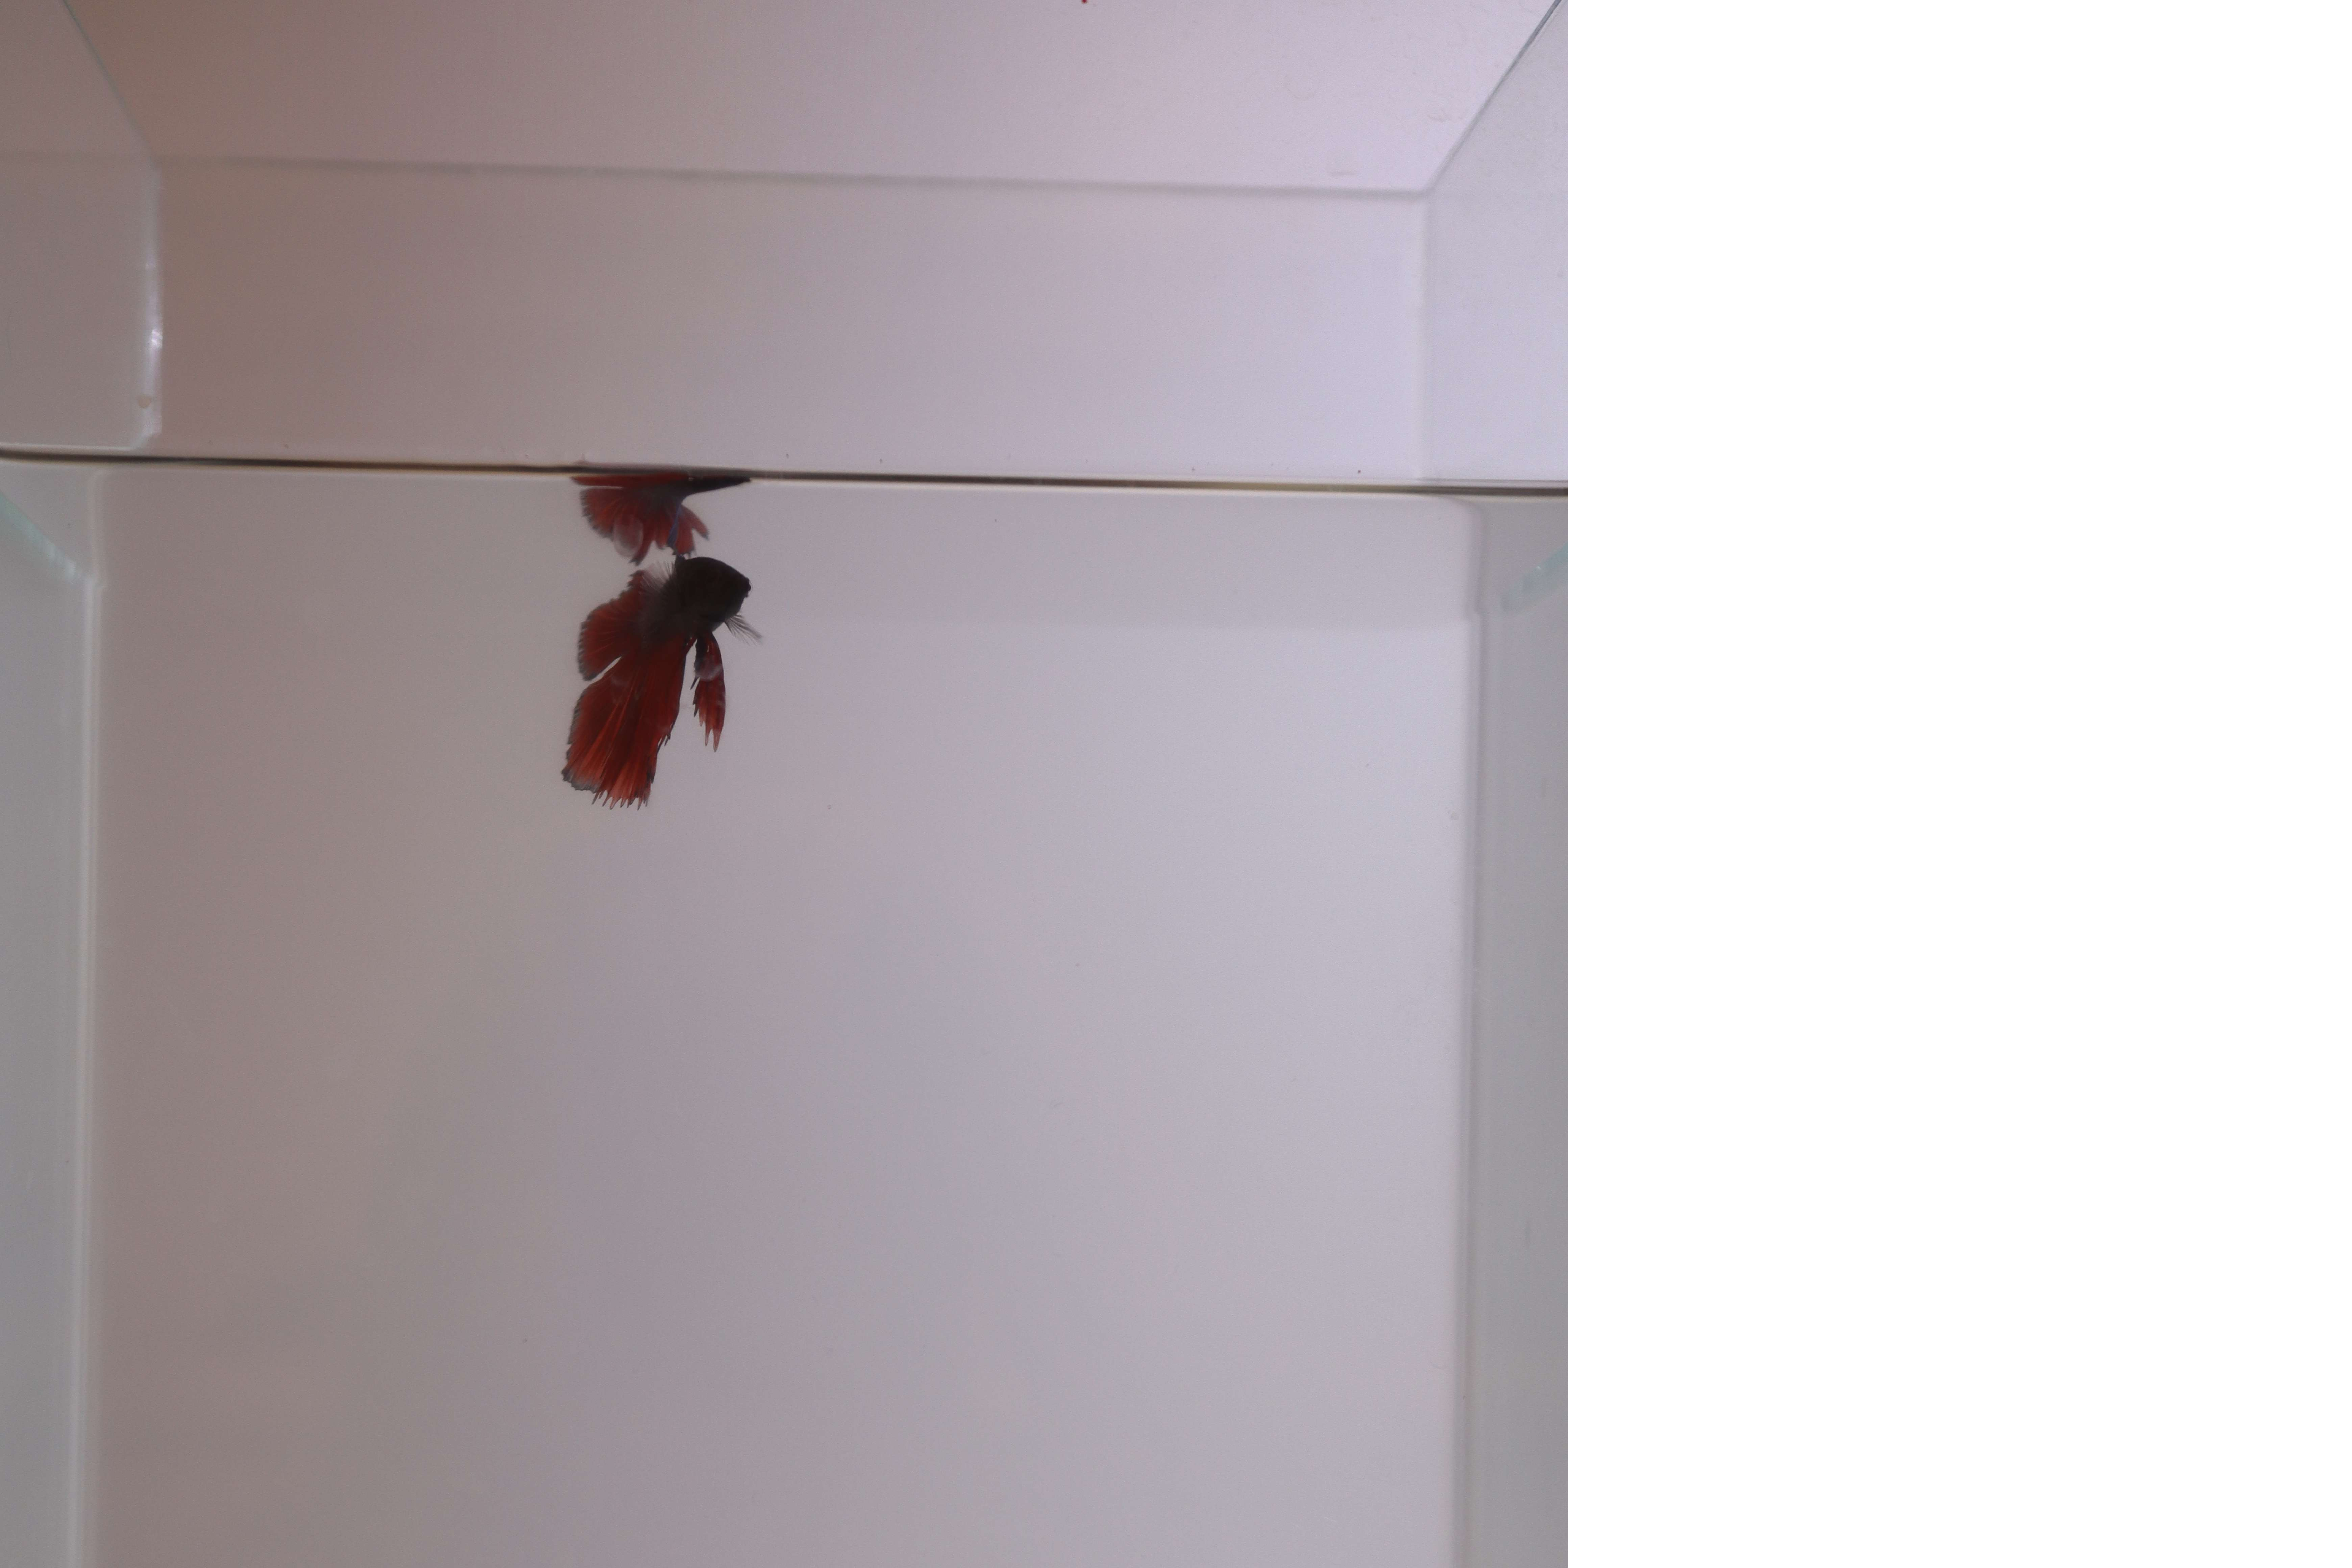fish: (541, 562, 788, 812)
